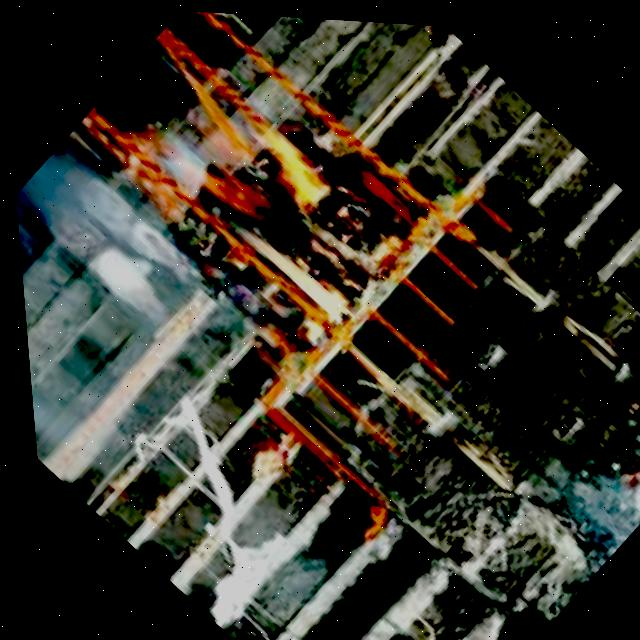Fire: (117, 48, 415, 335)
